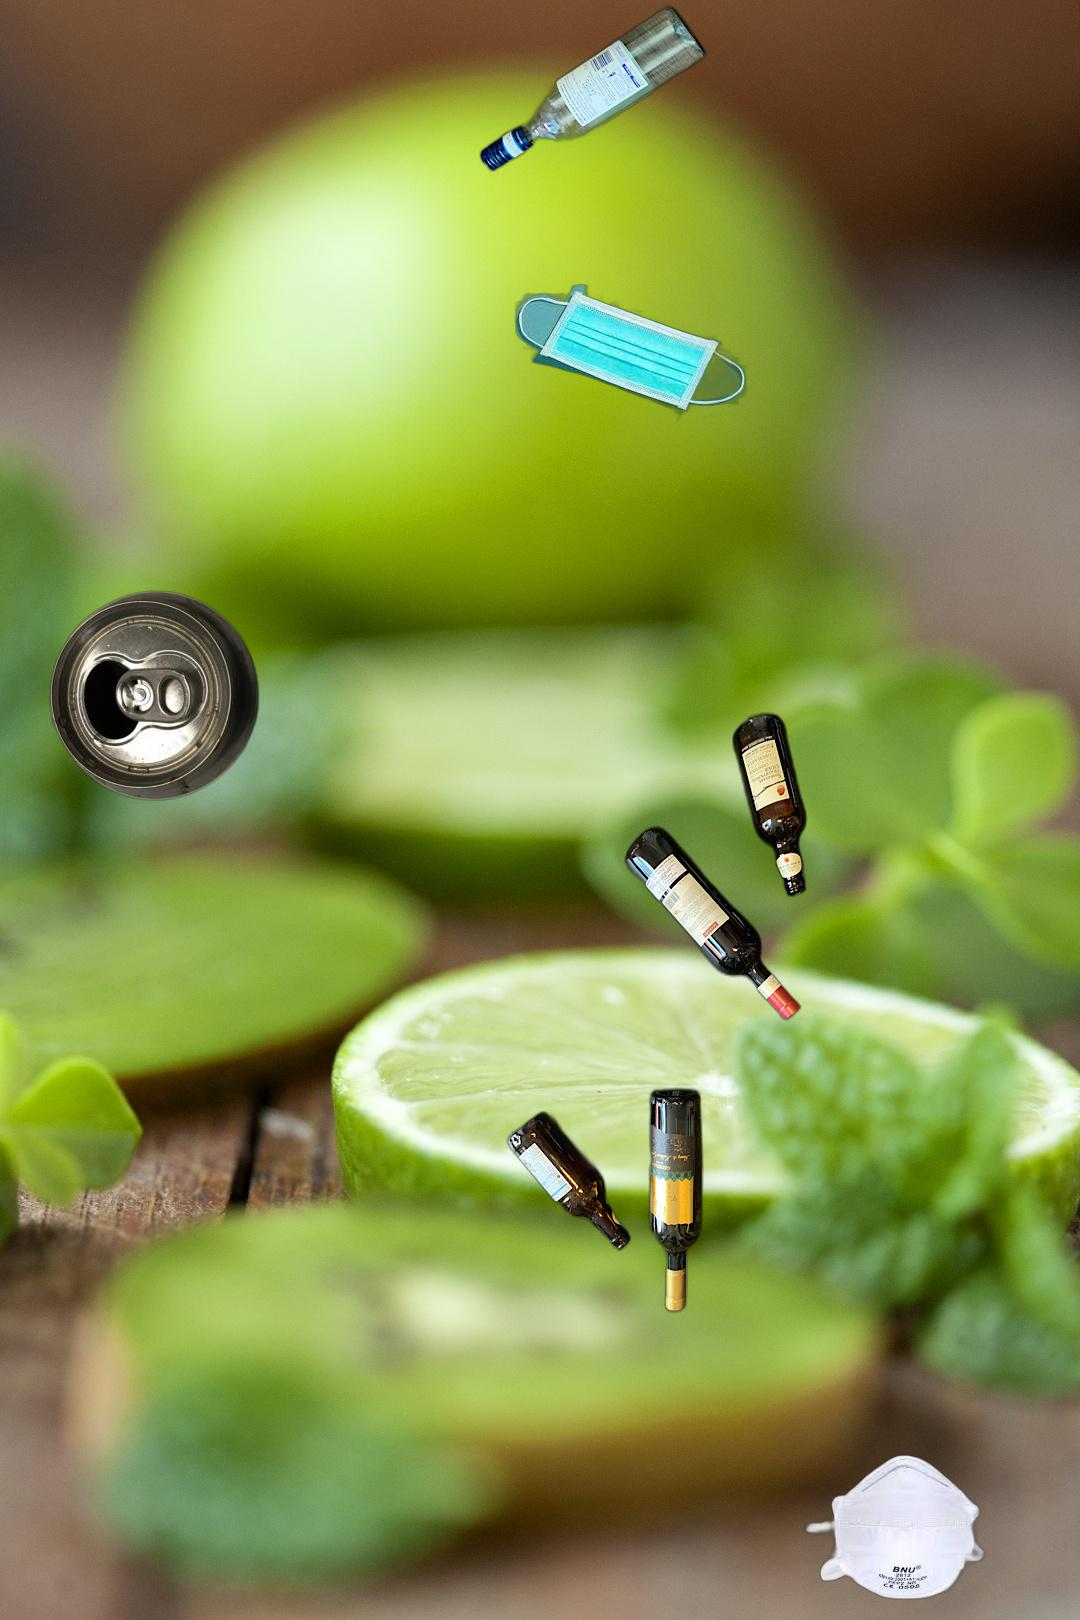glass: (503, 706, 811, 1317), (475, 0, 711, 176)
metal-cans: (46, 588, 264, 802)
trash: (513, 282, 749, 423), (802, 1452, 998, 1601)
